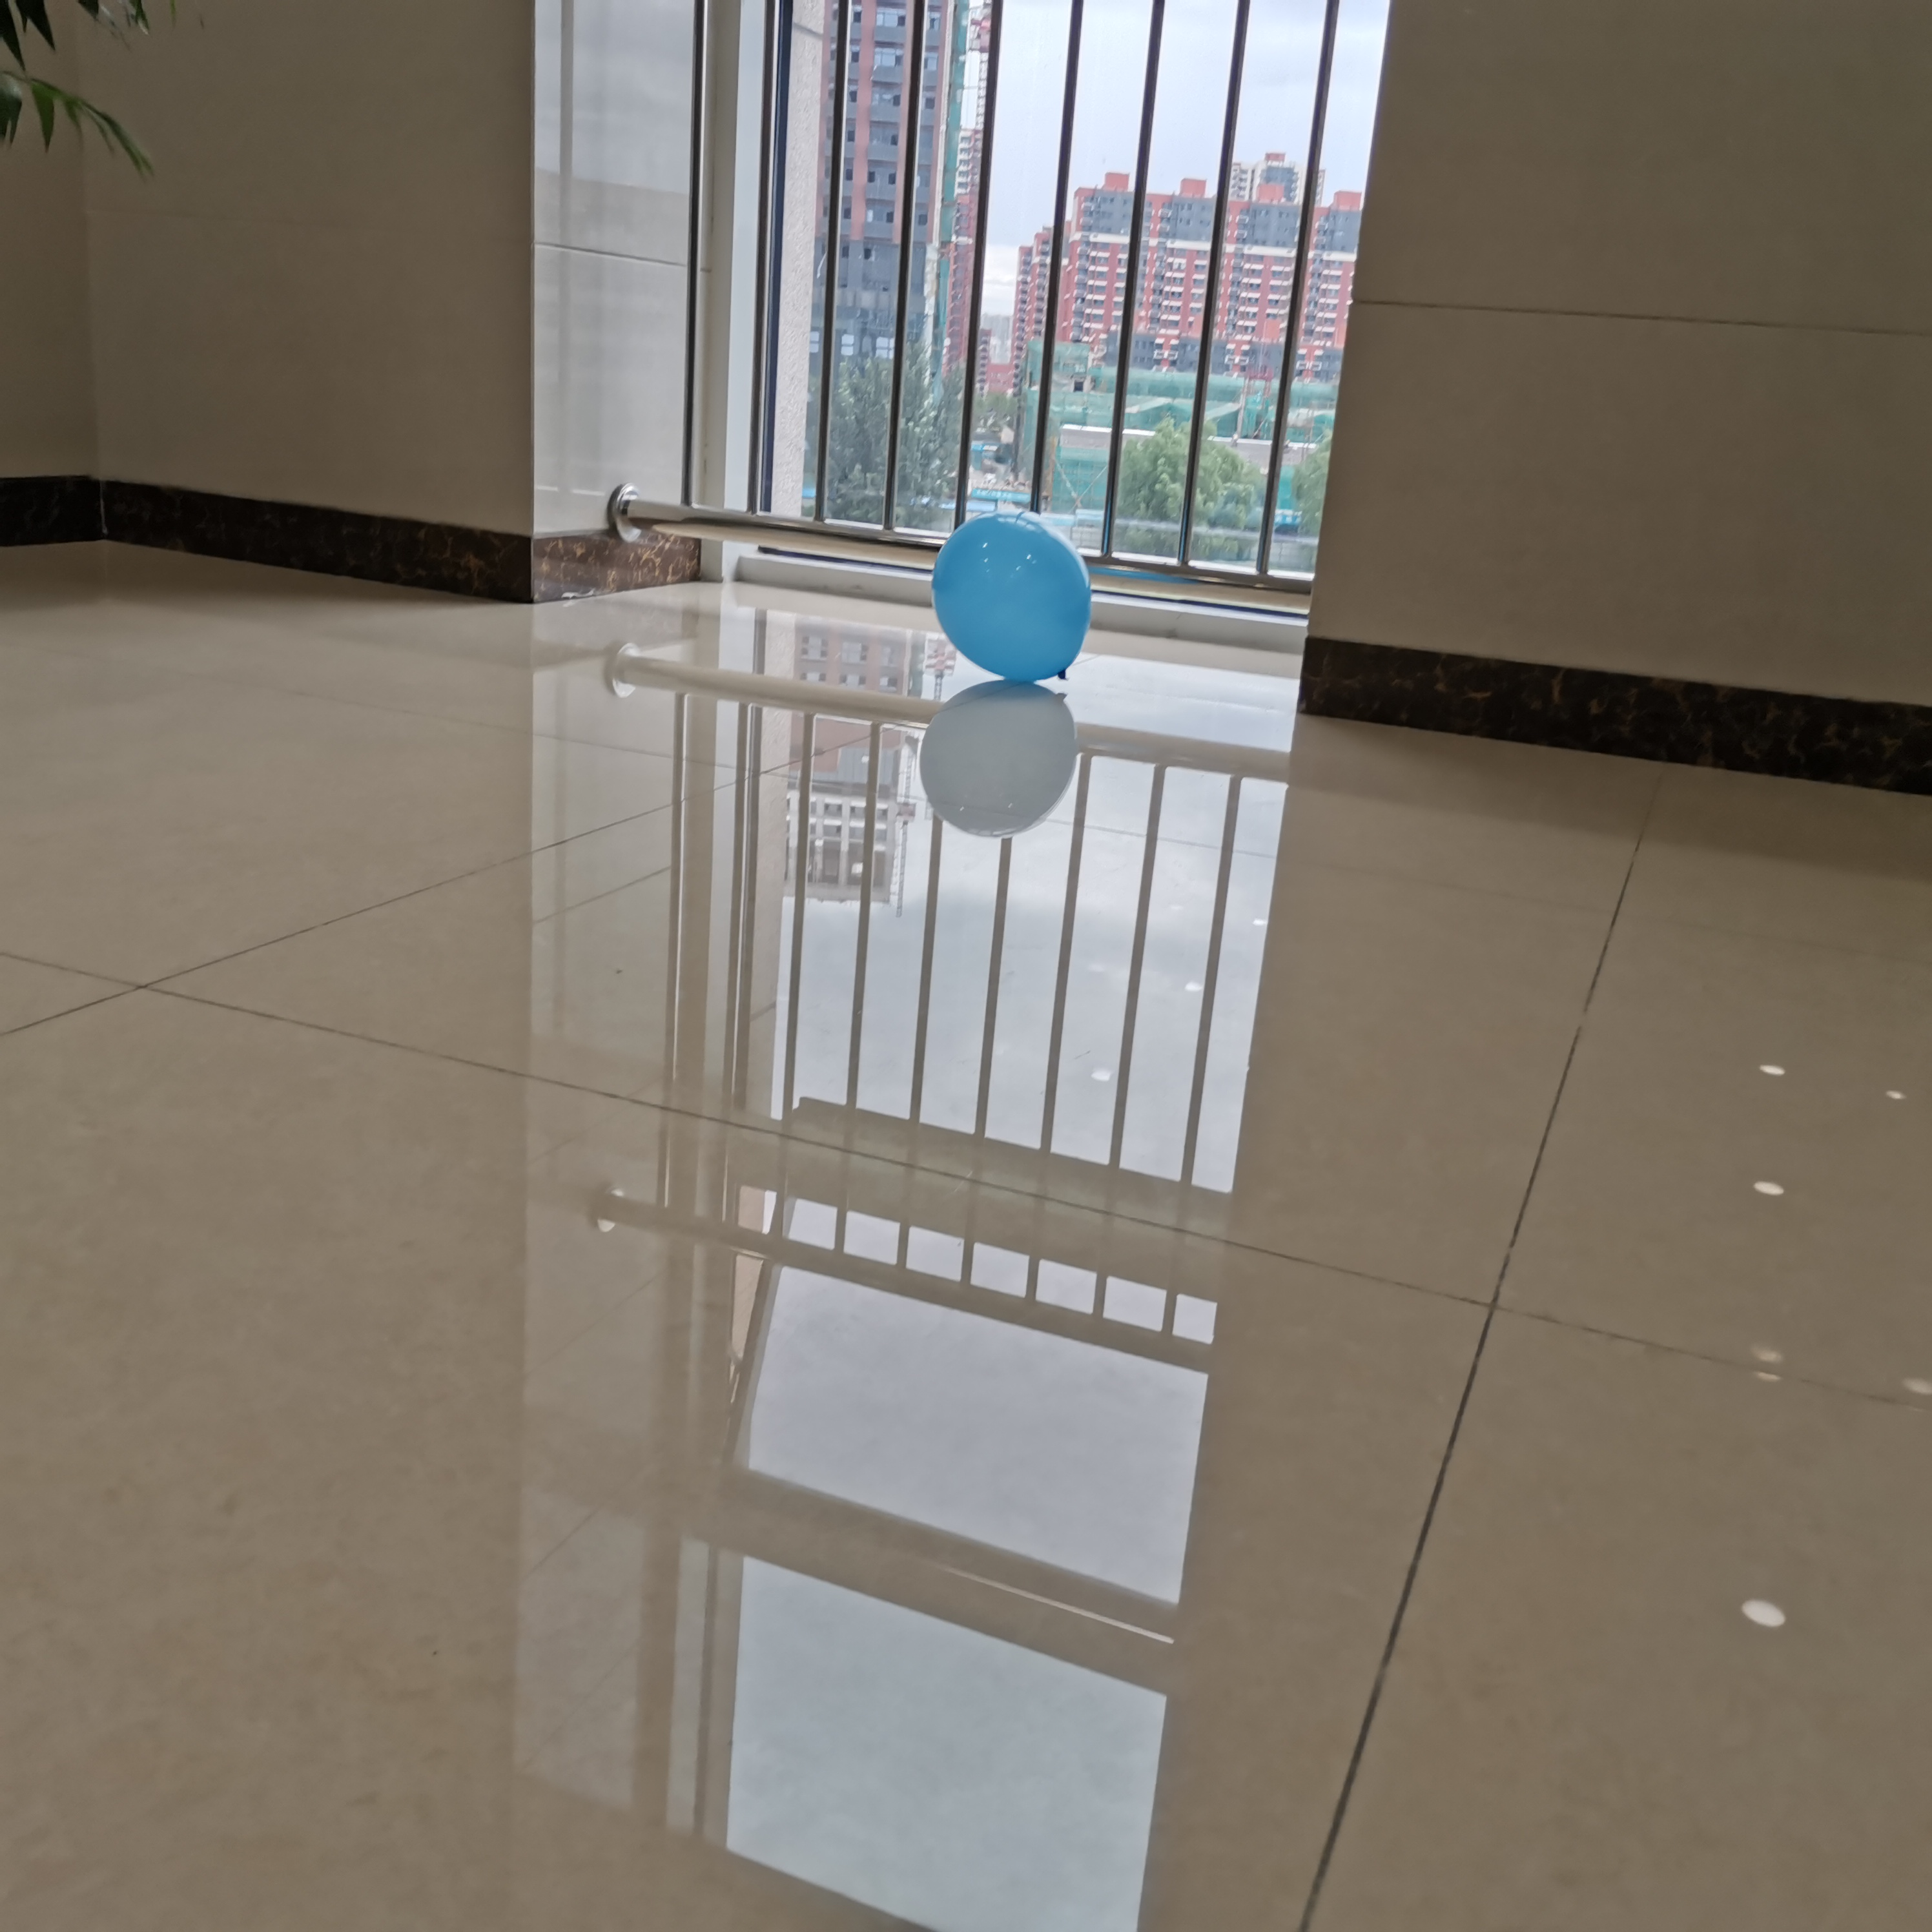balloon: (931, 511, 1093, 685)
